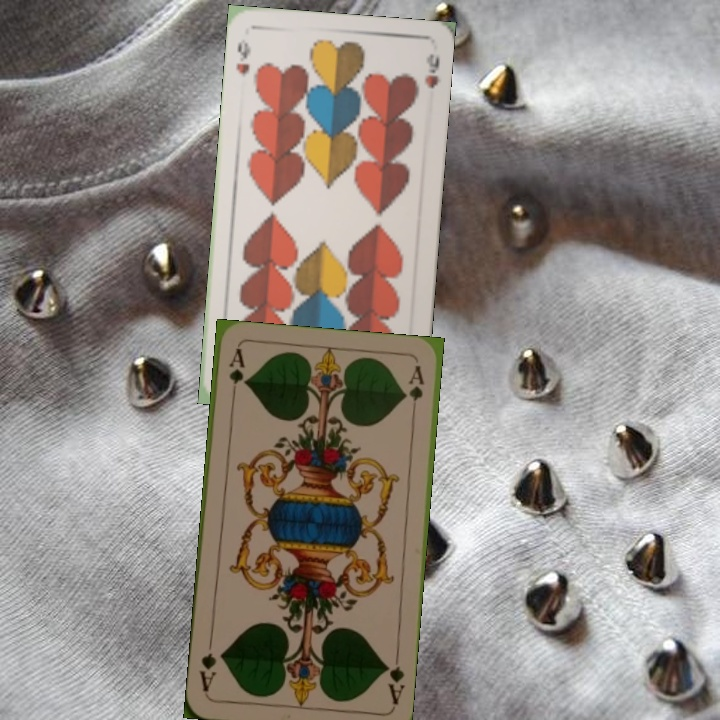GA: (381, 650, 407, 707), (225, 345, 247, 405)
H9: (232, 34, 253, 80)
